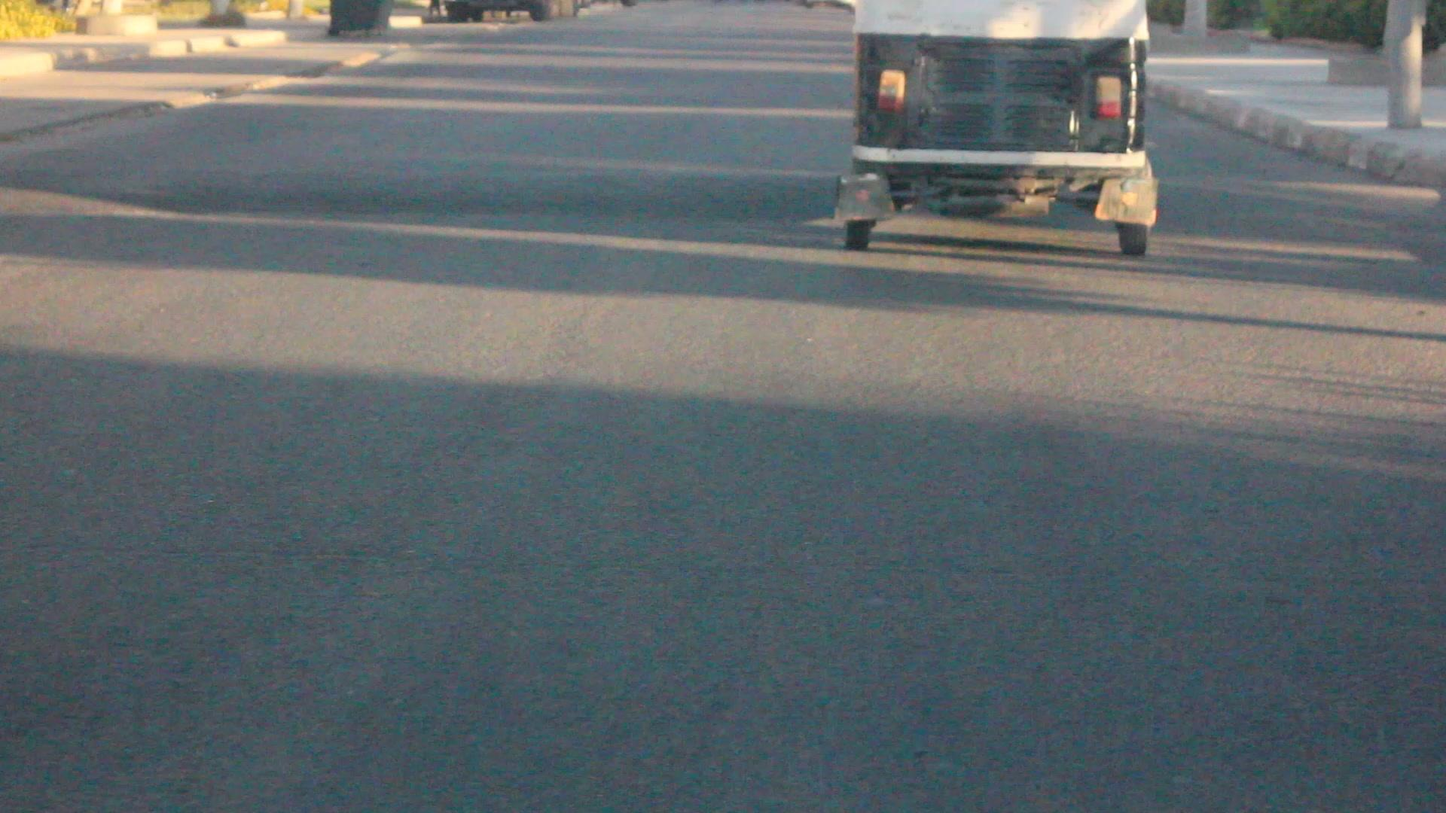Bump: (9, 152, 843, 233), (1167, 164, 1446, 243)
